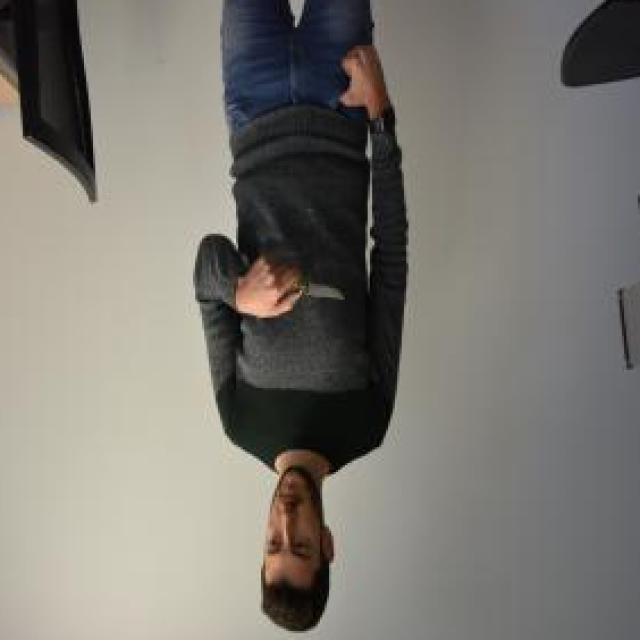knife: (277, 259, 349, 315)
